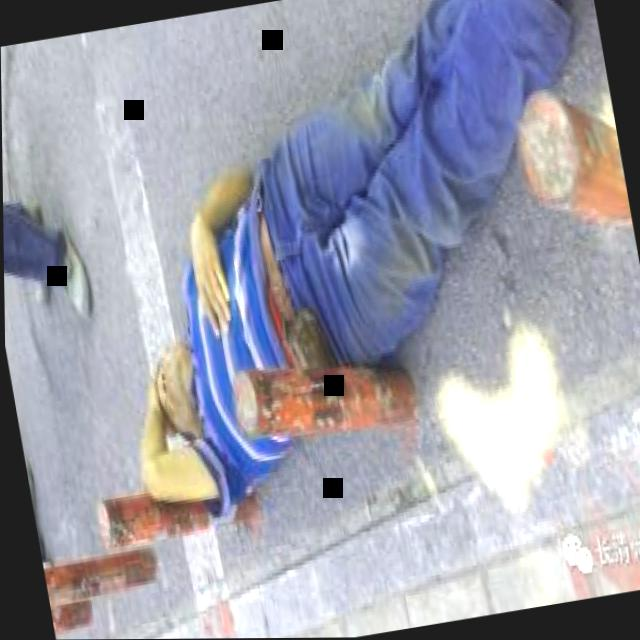Fall-Detected: (45, 0, 640, 564)
